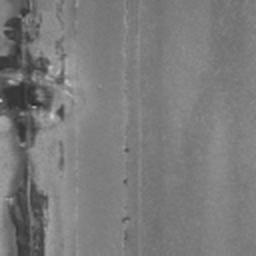Slag inclusion: (0, 0, 68, 256), (54, 0, 67, 29), (54, 140, 64, 174), (56, 104, 67, 124), (120, 214, 131, 224), (122, 230, 129, 243)
